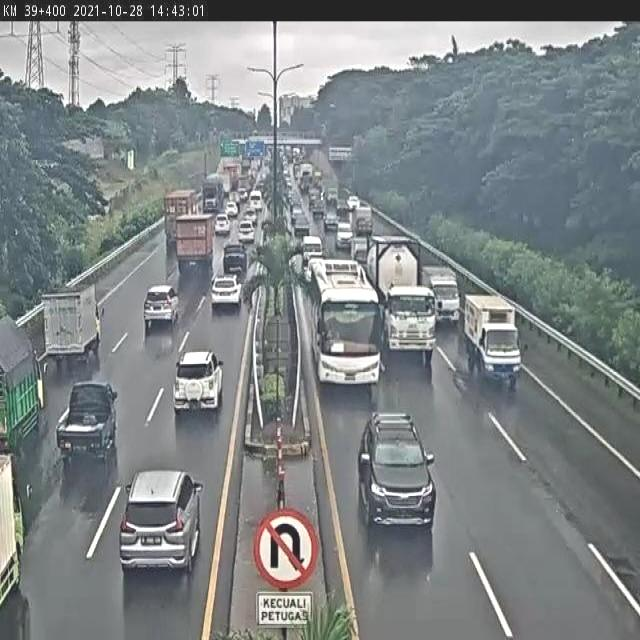Bus: (306, 258, 386, 390)
Car: (356, 411, 436, 533), (119, 469, 204, 574), (56, 380, 120, 463), (173, 348, 224, 415), (143, 285, 180, 330), (210, 274, 243, 312), (223, 242, 247, 278), (336, 223, 353, 249), (237, 220, 255, 243), (215, 213, 231, 236), (294, 214, 310, 236), (290, 205, 305, 223), (243, 207, 258, 225), (324, 212, 338, 231), (225, 201, 238, 219), (346, 196, 360, 211), (237, 188, 249, 203)
Truck: (366, 229, 444, 366), (0, 314, 50, 456), (462, 292, 528, 388), (0, 451, 35, 613), (41, 282, 105, 368), (420, 266, 464, 329), (174, 212, 215, 275), (163, 189, 200, 248), (202, 172, 224, 214), (352, 204, 378, 235), (349, 237, 371, 266), (223, 161, 240, 190), (298, 162, 312, 194), (324, 179, 340, 204), (217, 170, 231, 198)
Van: (300, 236, 326, 266), (248, 190, 264, 211)
